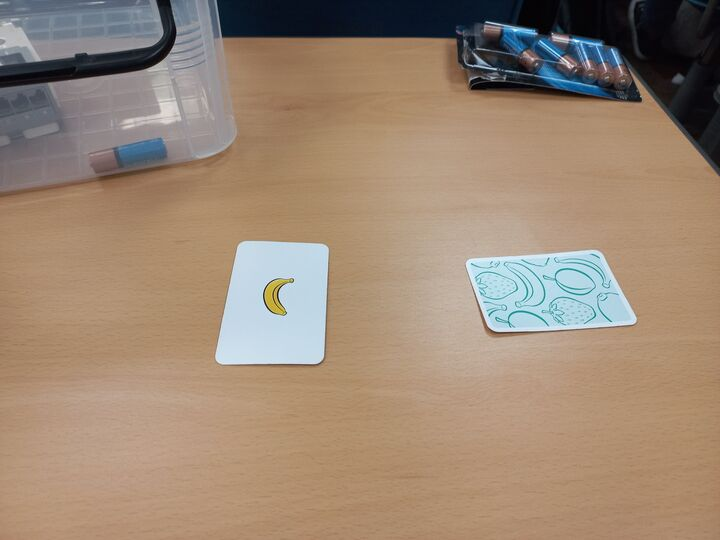banana1: (213, 237, 331, 368)
